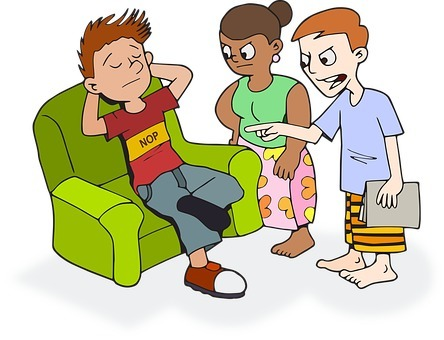person: (69, 13, 249, 300), (287, 8, 417, 294), (206, 1, 323, 262)
sofa: (32, 75, 265, 286)
